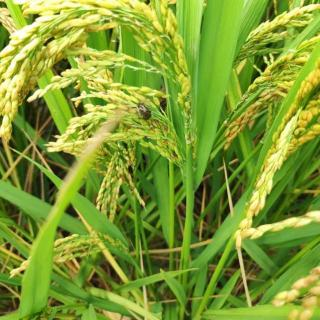Gosong-Palsu: (136, 100, 152, 120)
